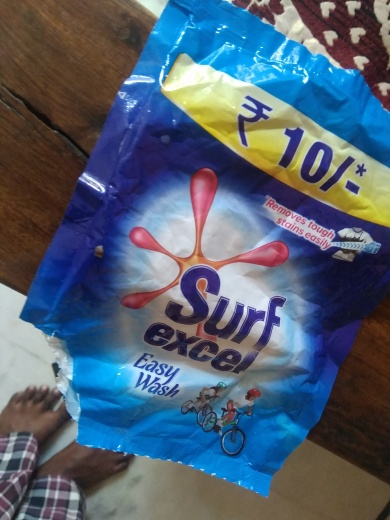surf: (30, 1, 390, 495)
